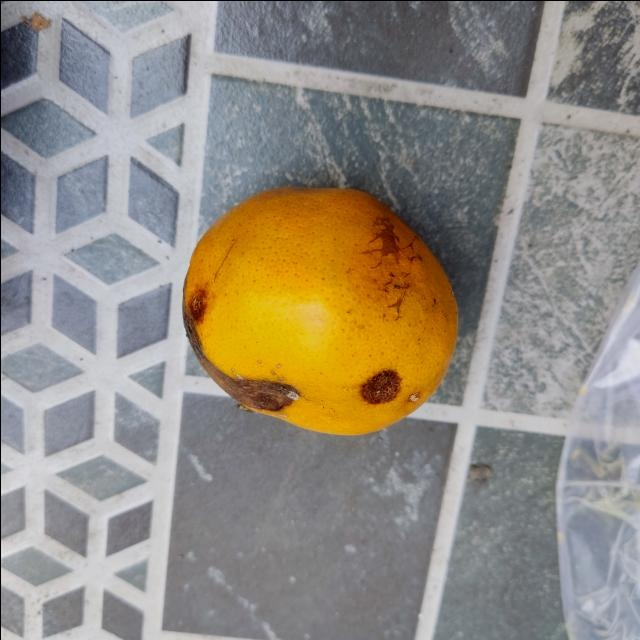agrume: (173, 179, 461, 439)
